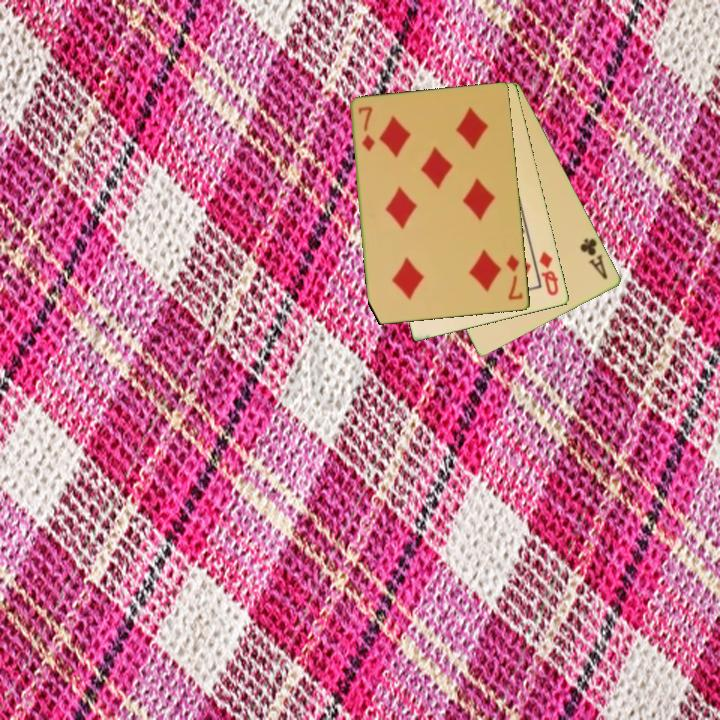7d: (503, 251, 526, 303), (355, 103, 378, 154)
Ac: (577, 234, 611, 282)
Qd: (536, 248, 562, 299)
